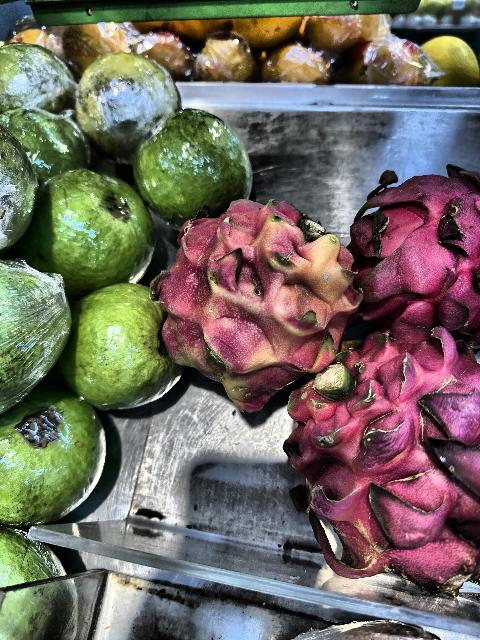buah-naga-belum-matang: (171, 190, 350, 404)
buah-naga-matang: (284, 333, 480, 592), (358, 168, 480, 332)
